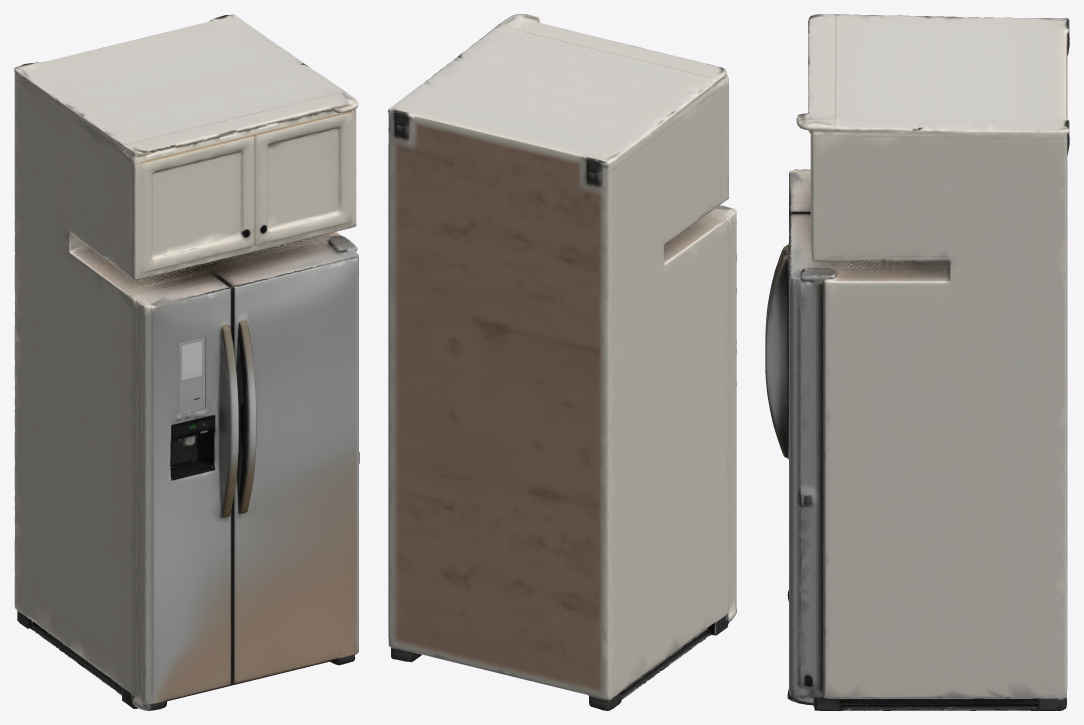
The model's file is buzdoalbirevize.fbx.
3 renders of one model, left to right at view 1: azimuth 30°, elevation 25°; view 2: azimuth 150°, elevation 25°; view 3: azimuth 270°, elevation 25°, orthographic. The views are drawn at different scales.
Parts seen in each view (by area): view 1: Mesh_0.008, Mesh_0.009; view 2: Mesh_0.008, Mesh_0.009; view 3: Mesh_0.008, Mesh_0.009.
Part boxes in pixels (x1,y1,x2,y2): Mesh_0.008: (14, 200, 359, 710); Mesh_0.009: (14, 14, 358, 280); Mesh_0.008: (388, 205, 736, 710); Mesh_0.009: (388, 14, 728, 296); Mesh_0.008: (765, 169, 1067, 710); Mesh_0.009: (796, 14, 1069, 279).
Size of the model in its own units: 79.85 by 191 by 89.58.
Materials: 1 (1 with a texture image).
